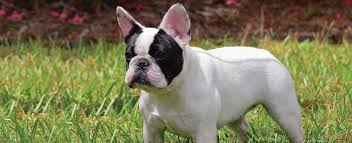Bulldog: (103, 3, 323, 143)
